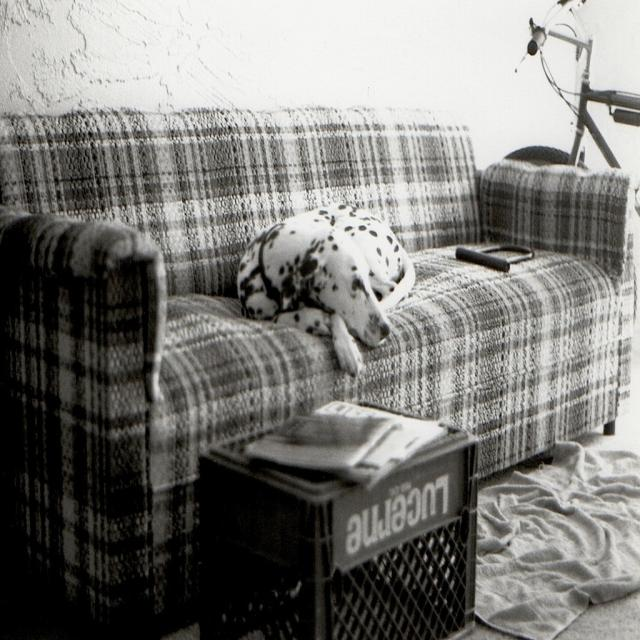Dog: (237, 204, 417, 380)
